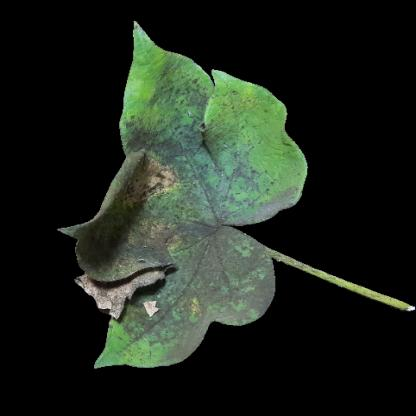curl_stage1: (133, 65, 154, 103)
sooty: (121, 222, 269, 330), (159, 124, 256, 230)
